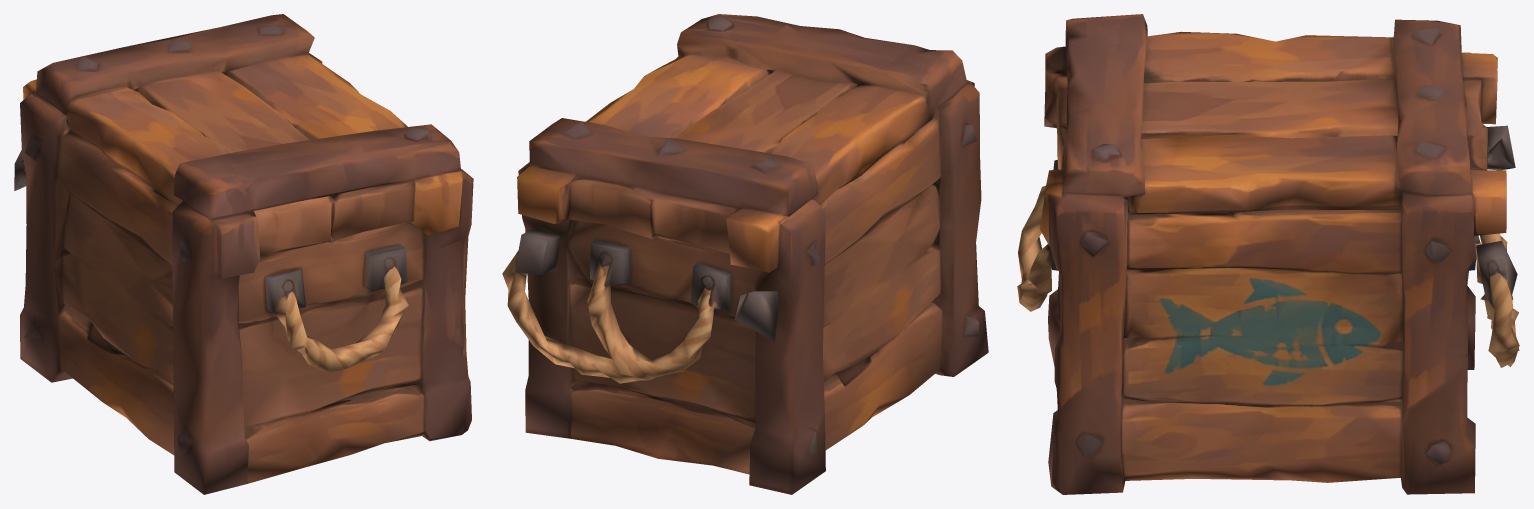
File: crate.glb
3 renders of one model, left to right at view 1: azimuth 30°, elevation 25°; view 2: azimuth 150°, elevation 25°; view 3: azimuth 270°, elevation 25°, orthographic. The views are drawn at different scales.
Visible parts, largest first — view 1: tripo_node_44162611-35f1-426a-93ca-359782dc2533; view 2: tripo_node_44162611-35f1-426a-93ca-359782dc2533; view 3: tripo_node_44162611-35f1-426a-93ca-359782dc2533.
Part boxes in pixels (bbox=[...]): tripo_node_44162611-35f1-426a-93ca-359782dc2533: bbox=[14, 14, 473, 494]; tripo_node_44162611-35f1-426a-93ca-359782dc2533: bbox=[502, 14, 988, 494]; tripo_node_44162611-35f1-426a-93ca-359782dc2533: bbox=[1017, 14, 1519, 494].
Size of the model in its own units: 0.5931 by 0.6 by 0.7854.
Materials: 1 (1 with a texture image).
